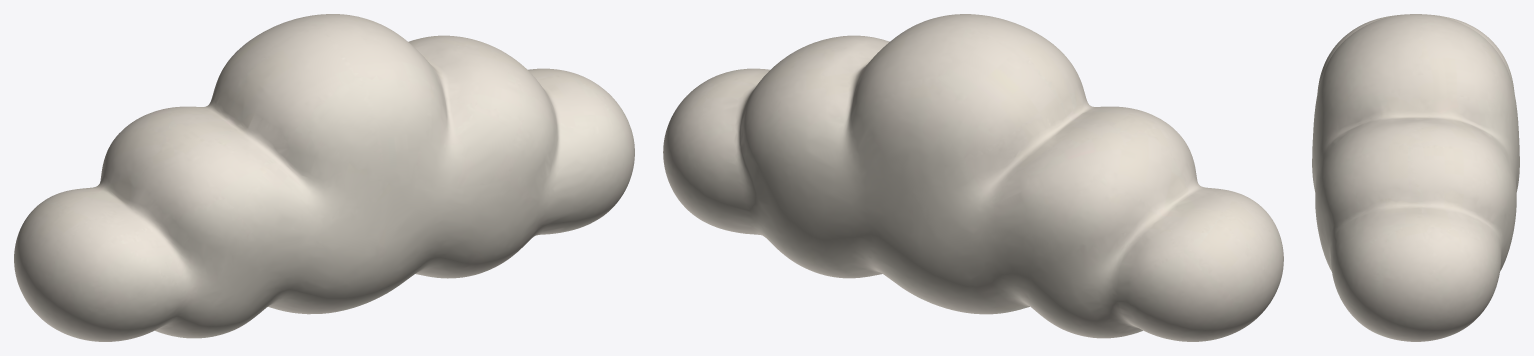
3 views of the same model, side by side, from view 1: azimuth 30°, elevation 25°; view 2: azimuth 150°, elevation 25°; view 3: azimuth 270°, elevation 25° (orthographic). The views are drawn at different scales.
Bounding box in the file's own units: 1.9 × 0.8269 × 0.6652.
1 material, 1 textured.
